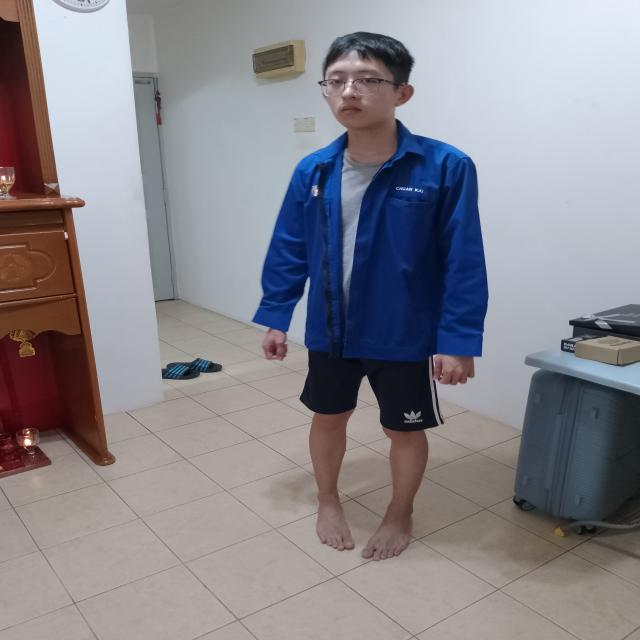person_with_labcoat: (253, 32, 488, 561)
